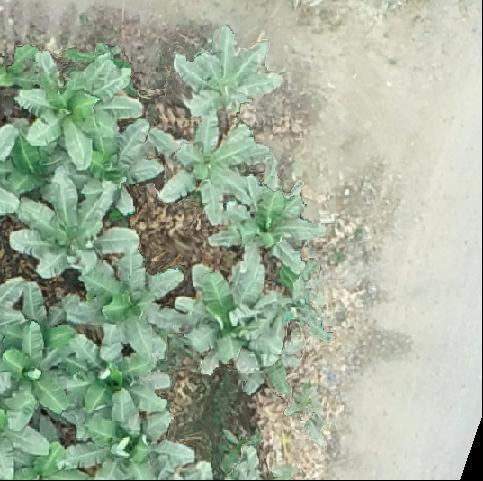Banana-plant: (176, 257, 305, 386), (0, 278, 104, 437), (18, 49, 147, 173), (1, 175, 142, 286), (63, 253, 192, 367), (147, 117, 276, 226), (57, 390, 195, 475), (207, 181, 324, 278), (171, 29, 285, 128), (69, 121, 166, 217), (7, 436, 91, 481)
